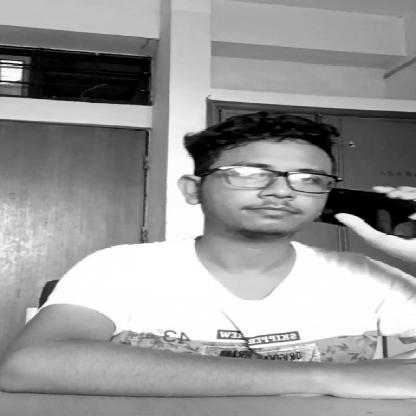Normal: (188, 112, 340, 238)
